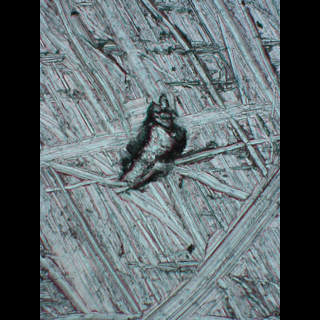Loch: (142, 147, 251, 317), (183, 2, 240, 179), (125, 86, 183, 200)
